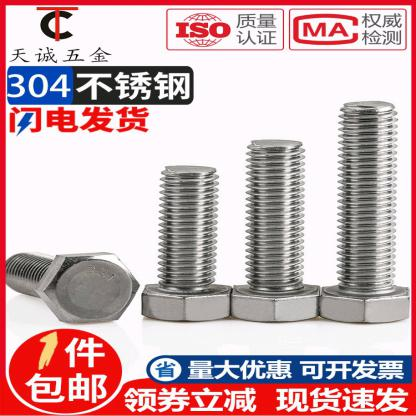FOD: (319, 102, 411, 324), (230, 137, 323, 324), (139, 160, 234, 324), (4, 247, 140, 325)
